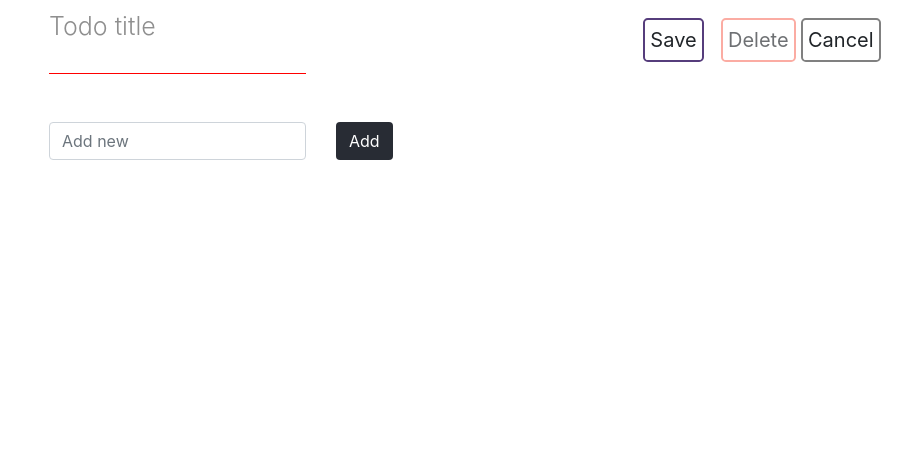
Test: Saving and fetching to/from database › should render `Alert` with text `Add title for todo`
This screenshot has width=898, height=449.
Type "This is todo task 0" into the field with placeholder "Add new" at (178,141), box [49,122,306,160]
Click the button "Add" at (364,141), box [336,122,393,160]
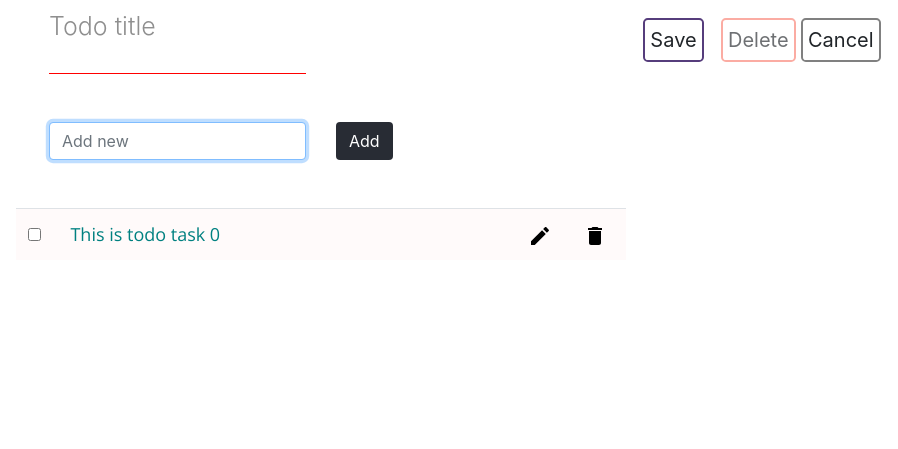
Type "This is todo task 1" into the field with placeholder "Add new" at (178,141), box [49,122,306,160]
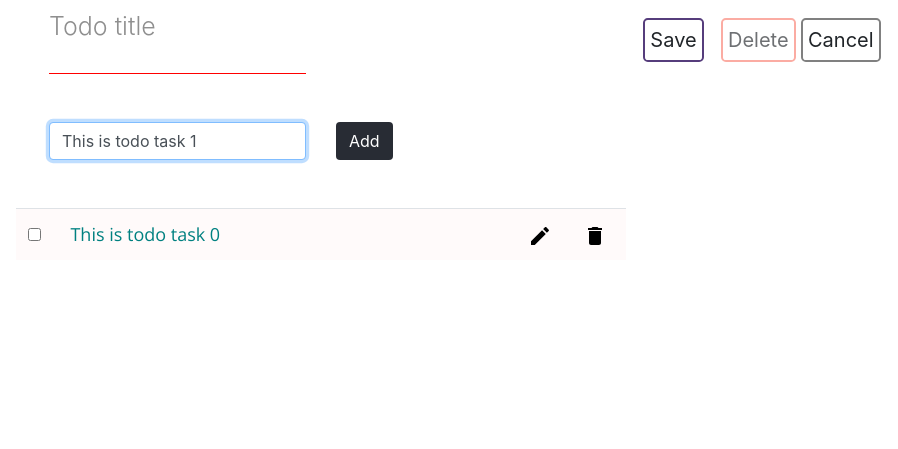
Click the button "Add" at (364,141), box [336,122,393,160]
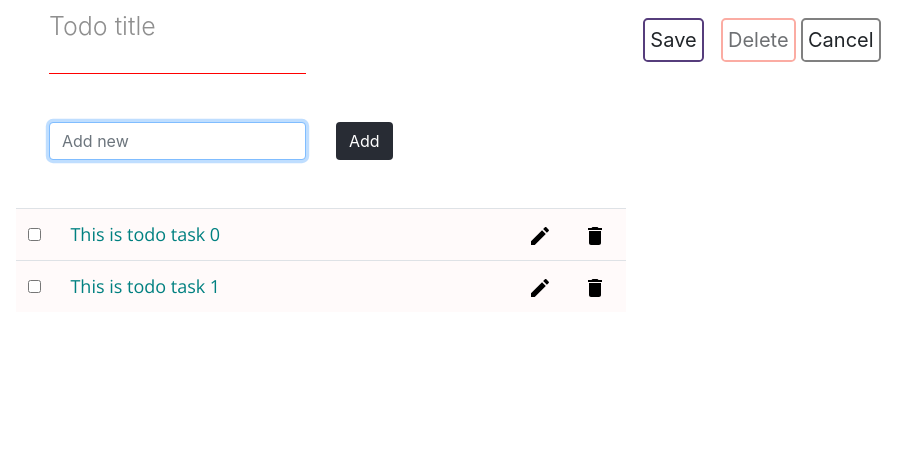
Type "This is todo task 2" into the field with placeholder "Add new" at (178,141), box [49,122,306,160]
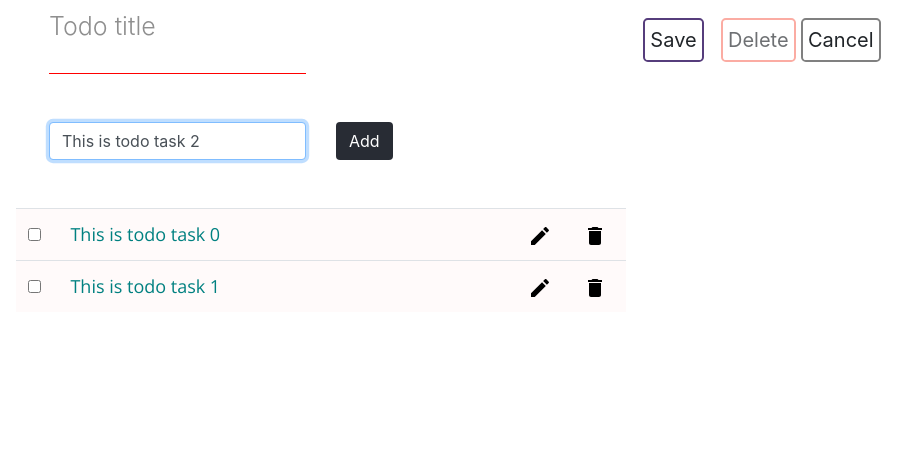
Click the button "Add" at (364,141), box [336,122,393,160]
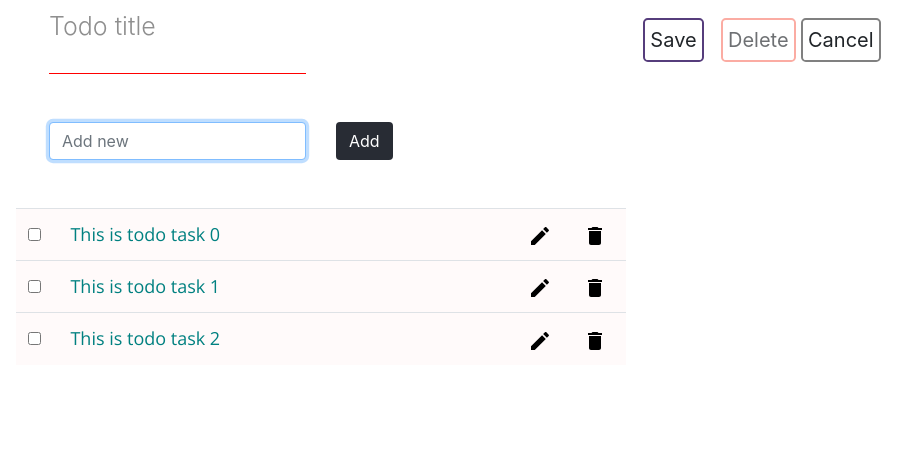
Click the button with aria-label "action-save" at (674,40), box [643,18,704,62]
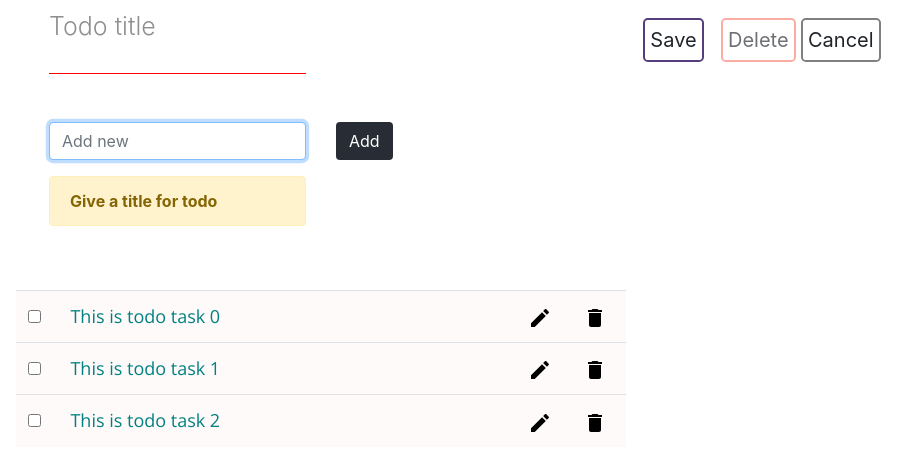
Result: the text "Give a title for todo" is shown at [70,191,217,211]
